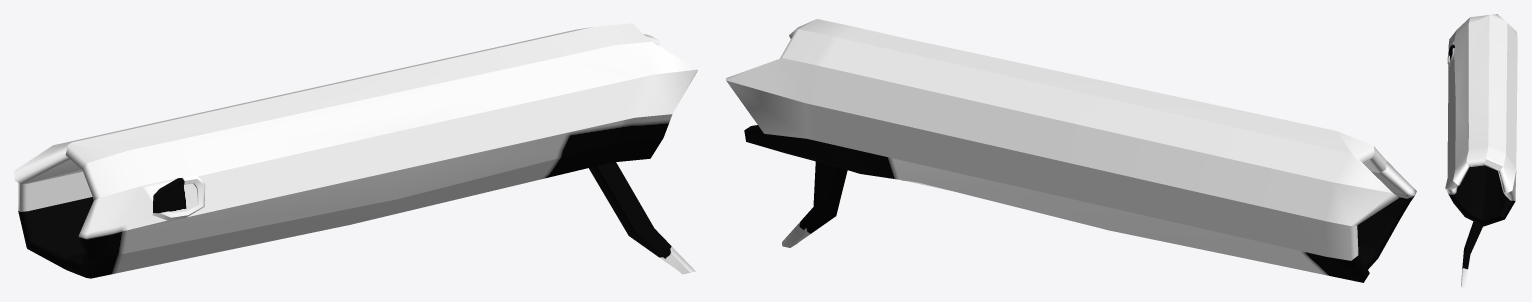
File: Log.fbx
The picture shows the model from 3 angles, left to right: view 1: azimuth 30°, elevation 25°; view 2: azimuth 150°, elevation 25°; view 3: azimuth 270°, elevation 25°; orthographic projection. The views are drawn at different scales.
Visible parts, largest first — view 1: Log; view 2: Log; view 3: Log.
Boxes of the visible parts, x1,y1,x2,y2 form: Log: (14,23,697,278); Log: (726,19,1416,282); Log: (1445,14,1517,287).
Bounding box in the file's own units: 9.78 × 1.86 × 3.62.
